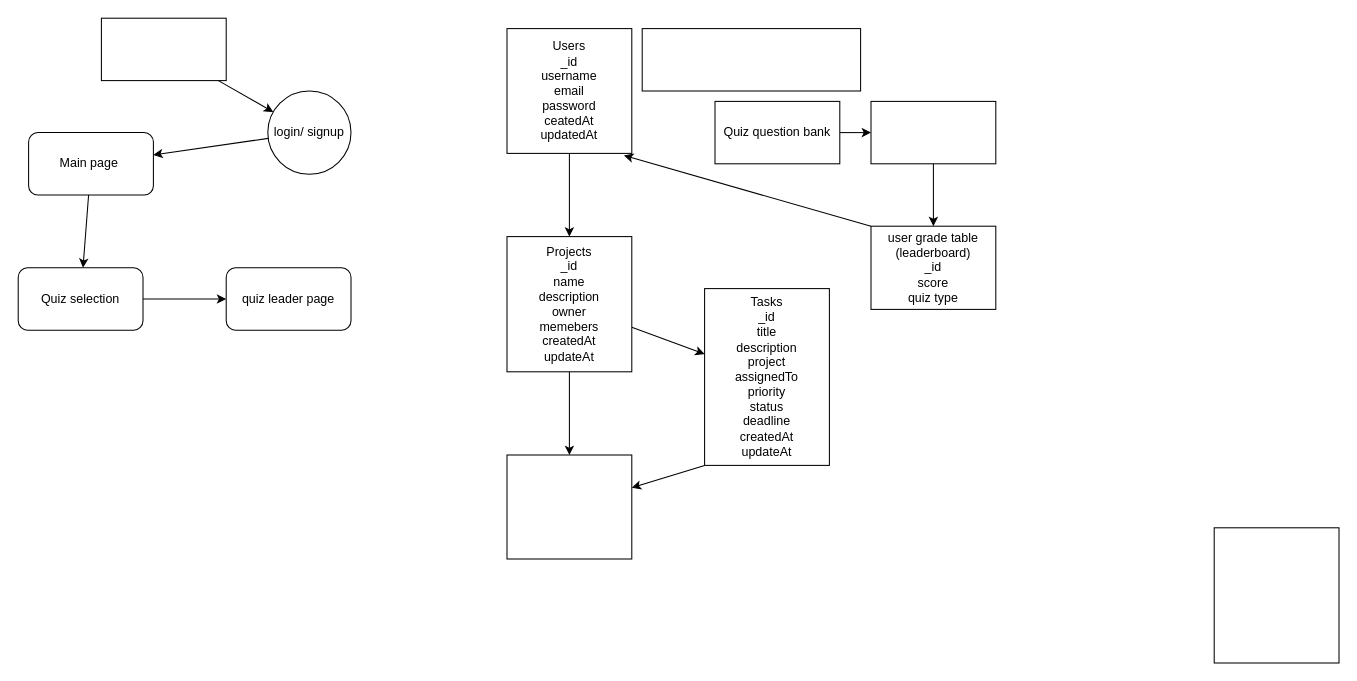
This 1357x681 diagram has some shape labels left out. Each missing label, with the centre of its shape:
Backend structure: point (751, 59)
LB Dungeon Language site Splash page: point (163, 49)
Notifications _id user message read createdAt: point (569, 506)
Quiz table: point (933, 132)
